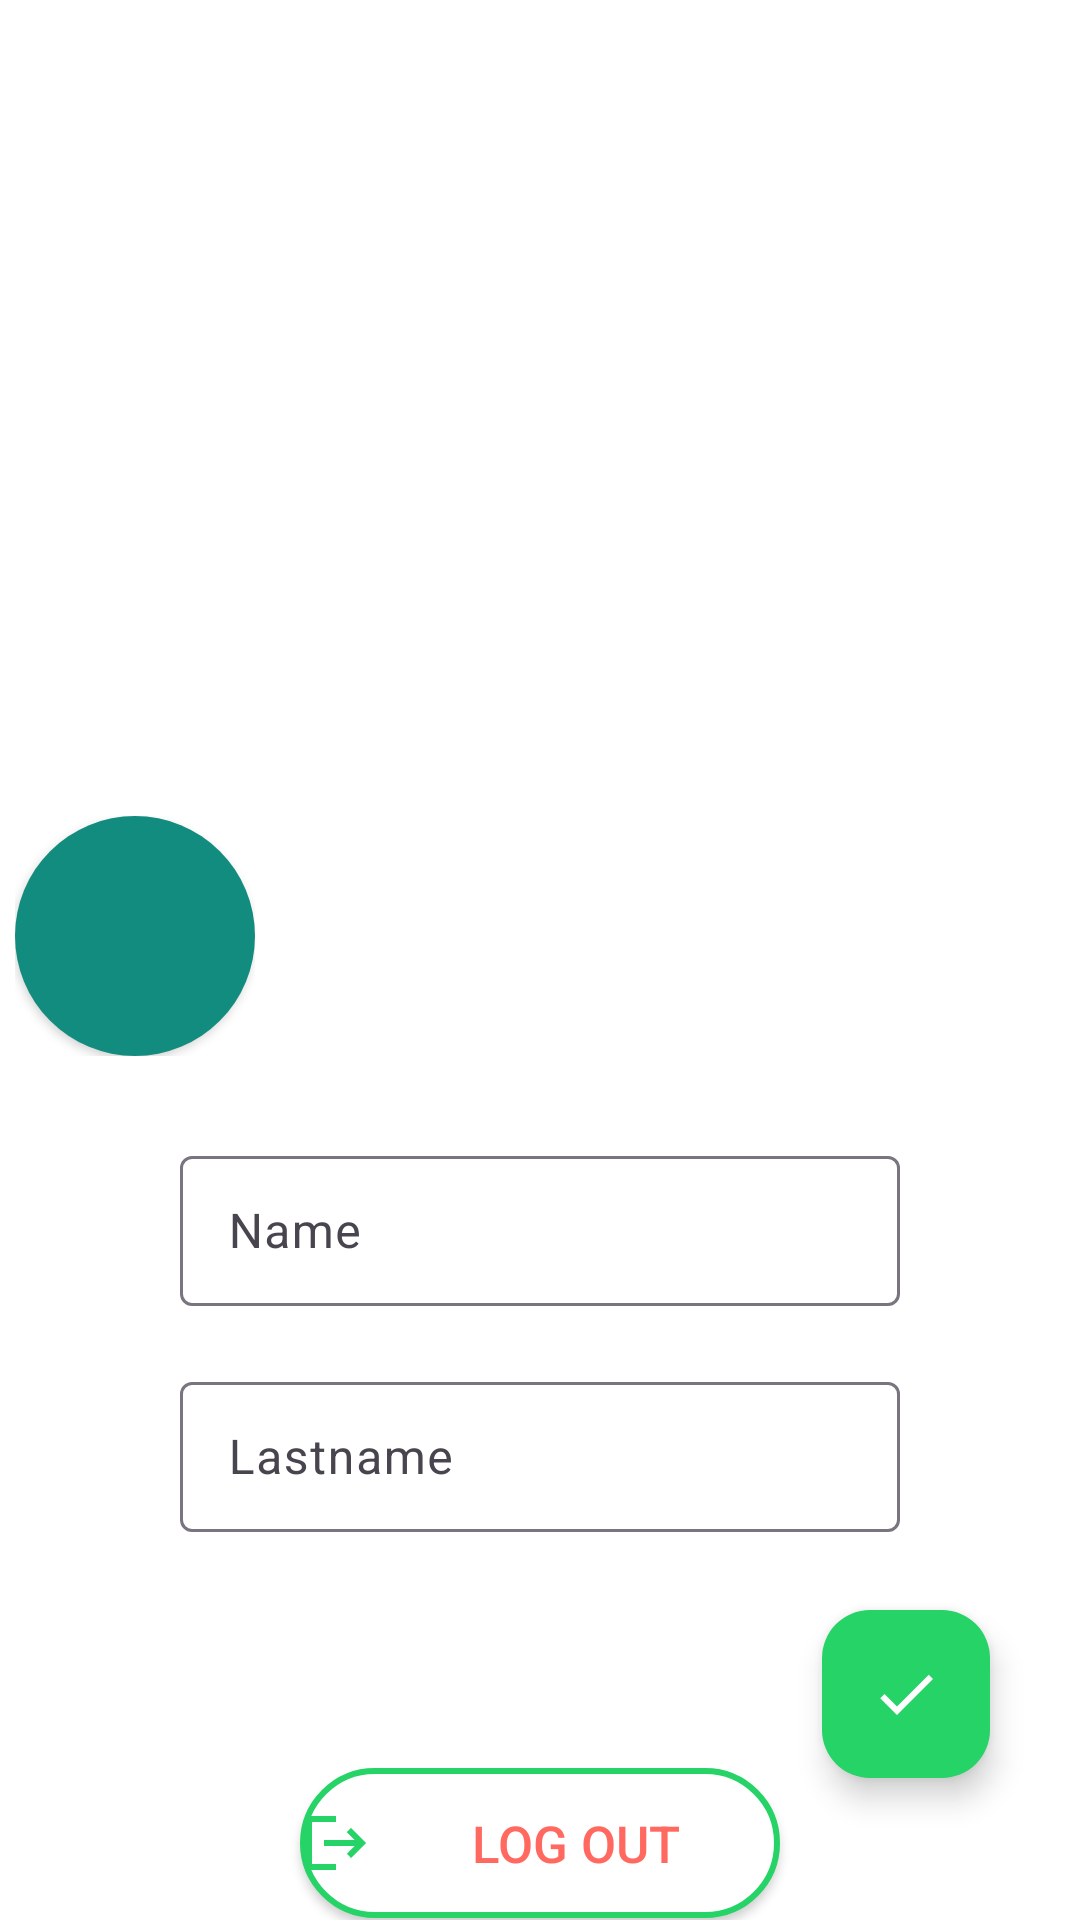

Where icons sit on this 1080×1920 app screen, as (x1, y1, x2, y2):
check: (822, 1610, 990, 1778)
